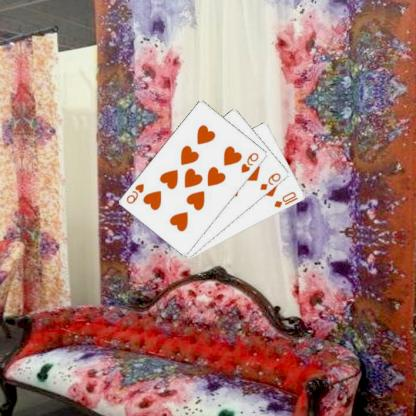10D: (273, 189, 301, 209)
9D: (259, 170, 284, 192)
9H: (240, 150, 262, 174), (126, 181, 147, 205)
